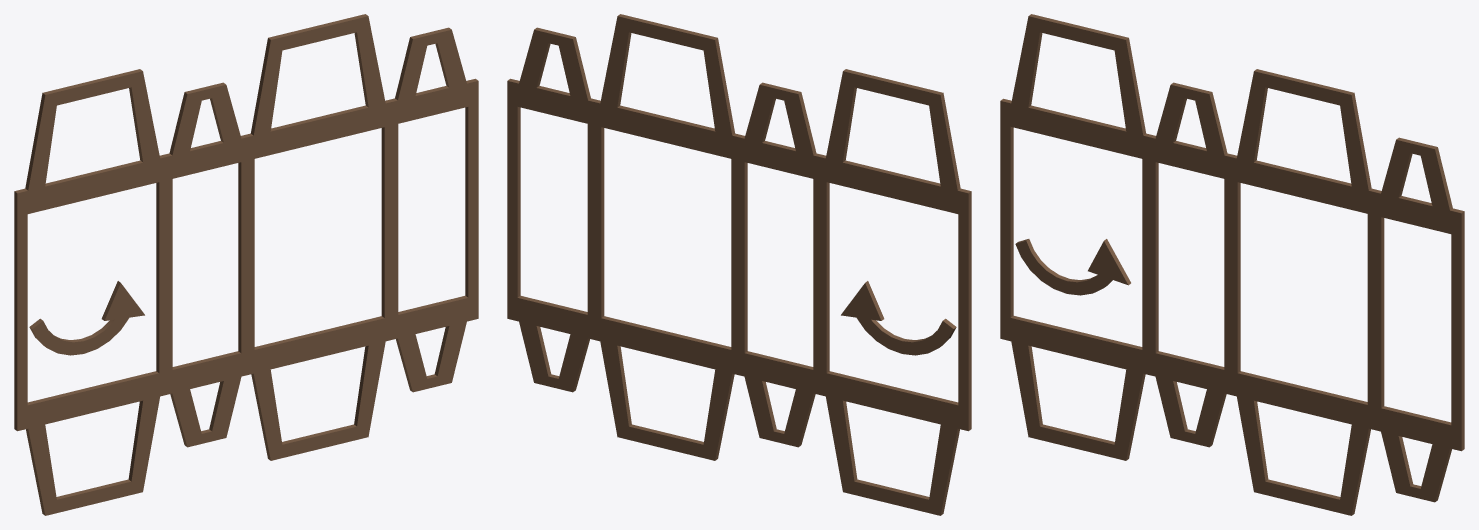
File: sign_icon_box.glb
The picture shows the model from 3 angles, left to right: view 1: azimuth 30°, elevation 25°; view 2: azimuth 150°, elevation 25°; view 3: azimuth 330°, elevation 25°; orthographic projection.
Parts seen in each view (by area): view 1: sign_icon_box; view 2: sign_icon_box; view 3: sign_icon_box.
Boxes of the visible parts, bbox=[...] form: sign_icon_box: bbox=[14, 14, 478, 515]; sign_icon_box: bbox=[507, 14, 971, 515]; sign_icon_box: bbox=[1000, 14, 1464, 515].
Bounding box in the file's own units: 0.225 × 0.1962 × 0.0025.
